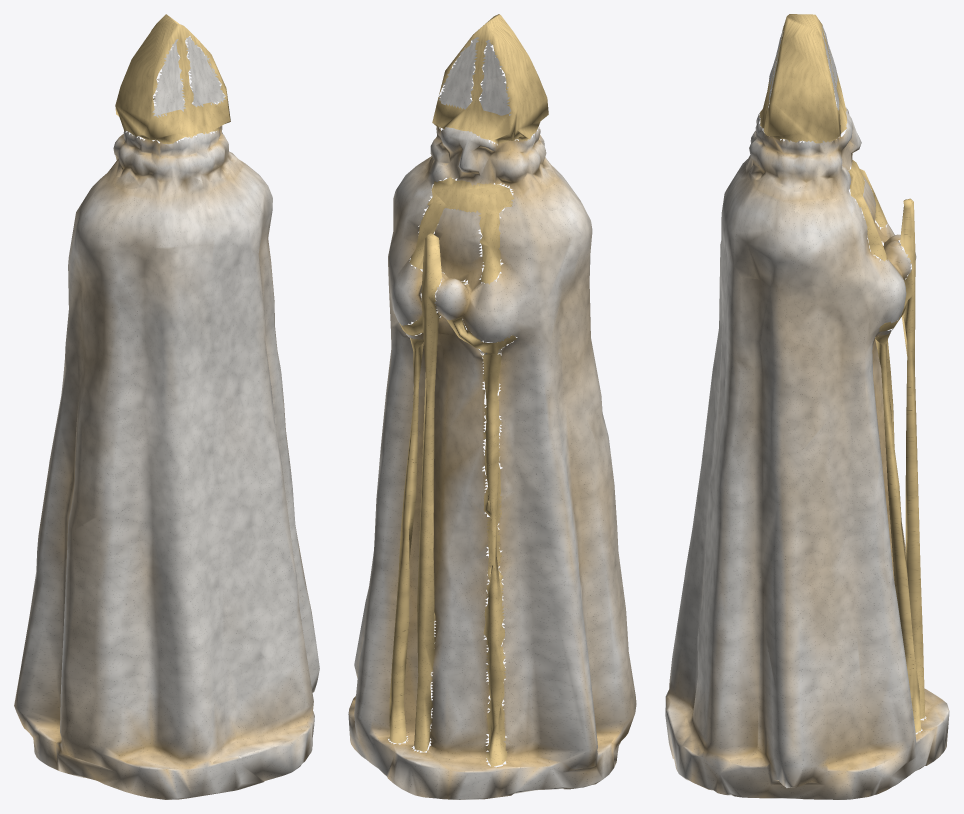
Rendered from bishop-white.glb.
3 views of the same model, side by side, from view 1: azimuth 30°, elevation 25°; view 2: azimuth 150°, elevation 25°; view 3: azimuth 270°, elevation 25° (orthographic).
Parts seen in each view (by area): view 1: Argent Reliquary – White Bishop; view 2: Argent Reliquary – White Bishop; view 3: Argent Reliquary – White Bishop.
Boxes of the visible parts, x1=… form: Argent Reliquary – White Bishop: x1=14, y1=14, x2=319, y2=799; Argent Reliquary – White Bishop: x1=348, y1=14, x2=636, y2=799; Argent Reliquary – White Bishop: x1=665, y1=14, x2=949, y2=799.
Size of the model in its own units: 0.5363 by 1.39 by 0.4879.
Materials: 2 (2 with a texture image).
